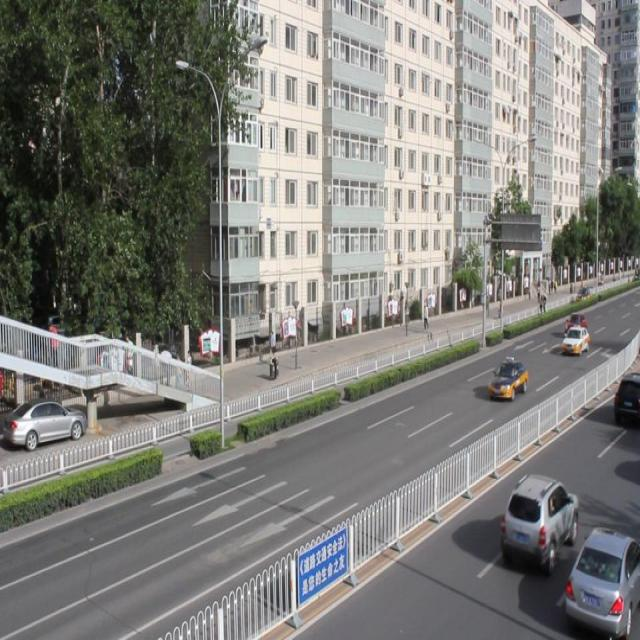car: (564, 524, 640, 632), (498, 471, 577, 562), (487, 355, 526, 396), (612, 370, 640, 427), (560, 324, 589, 354)
